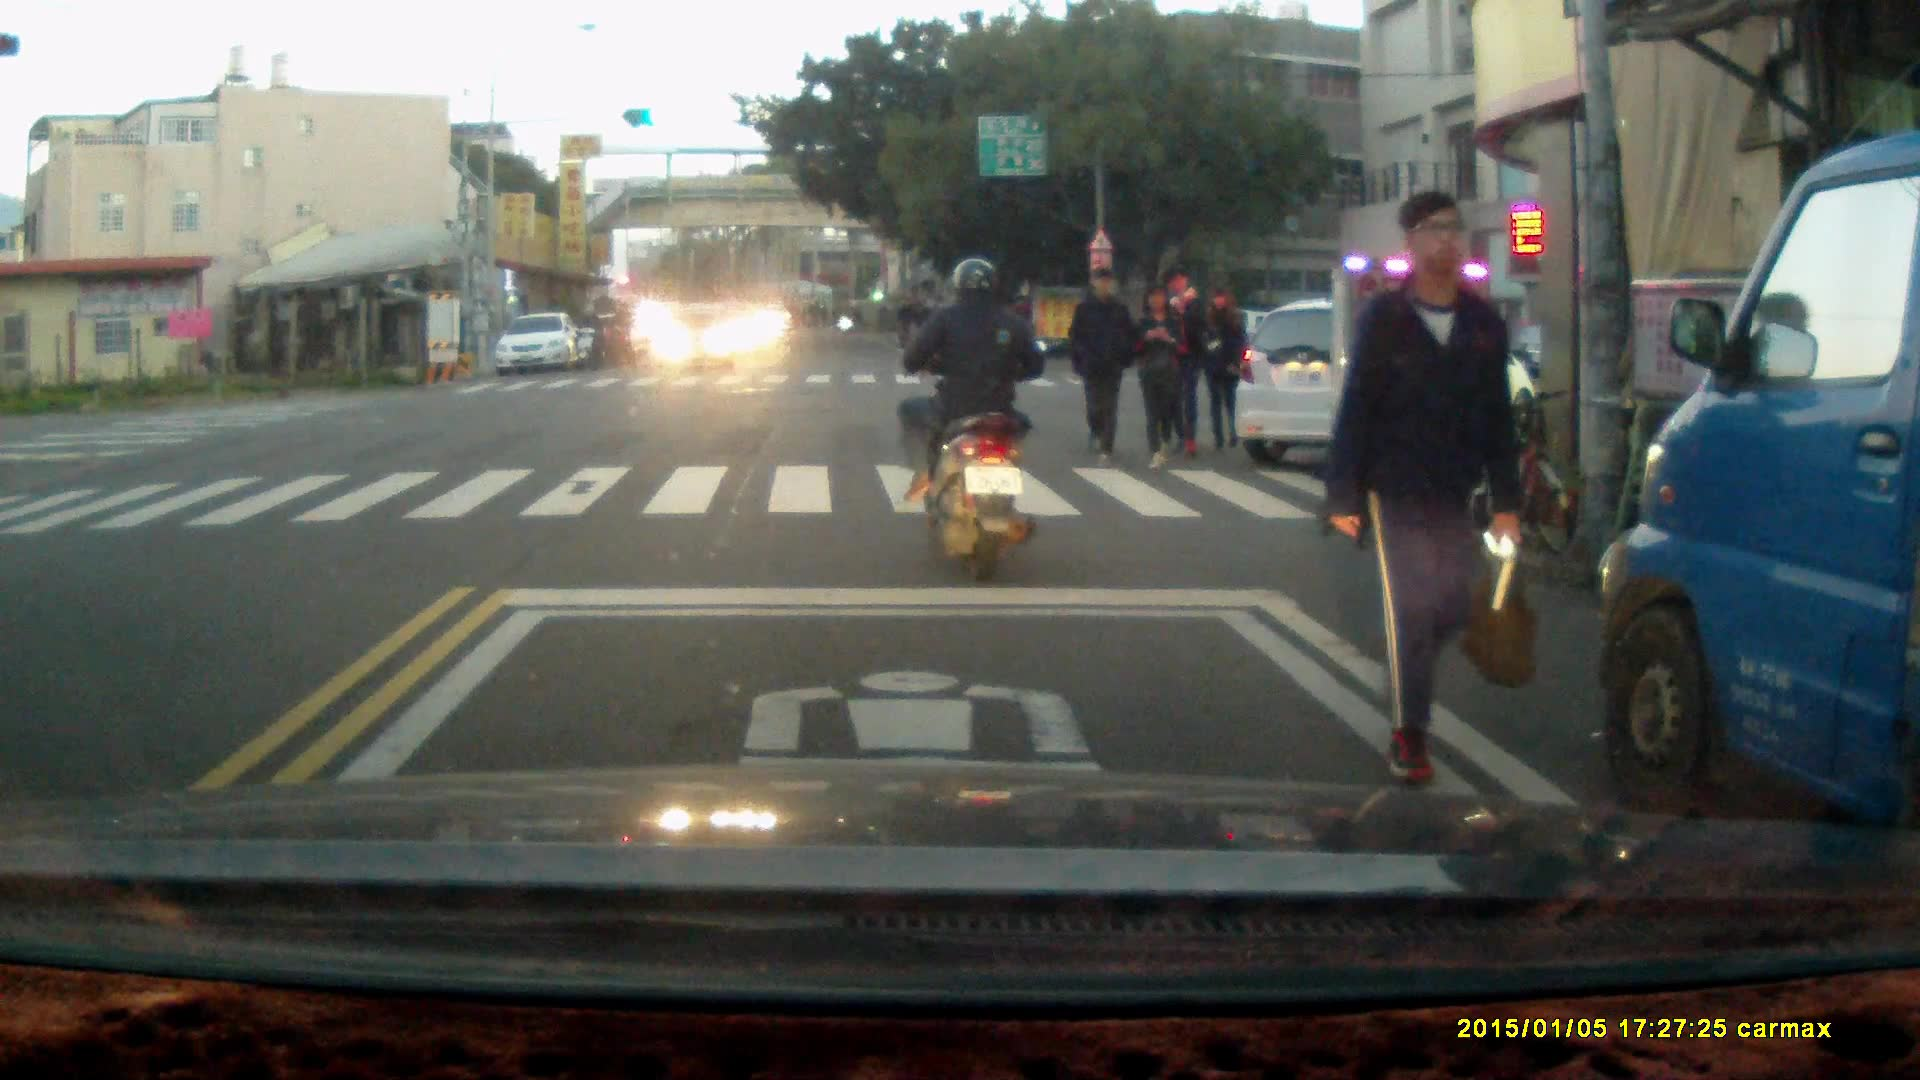pedestrian: (1320, 198, 1537, 788), (1064, 262, 1133, 464), (1133, 280, 1190, 472), (1163, 267, 1207, 462), (1197, 283, 1246, 453)
rider: (893, 255, 1043, 582), (602, 295, 636, 370), (572, 299, 605, 373)
vehicle: (1598, 126, 1920, 898), (1241, 303, 1549, 466), (648, 293, 741, 370), (493, 311, 584, 378)
